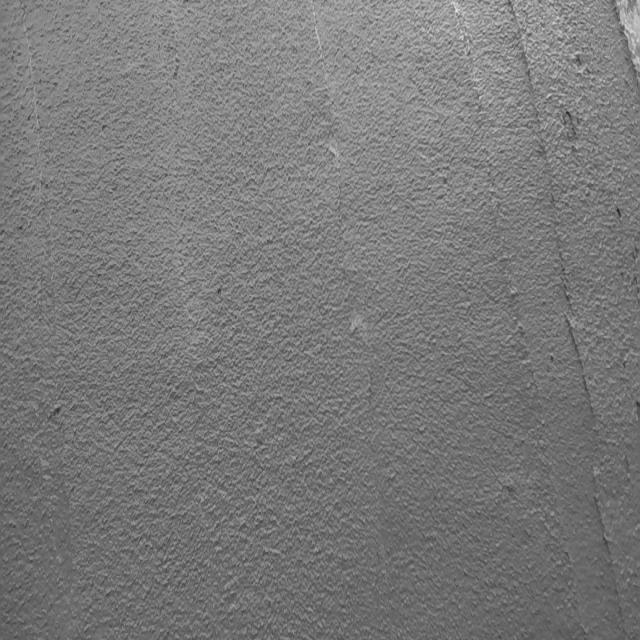trowels marks: (504, 4, 608, 606)
